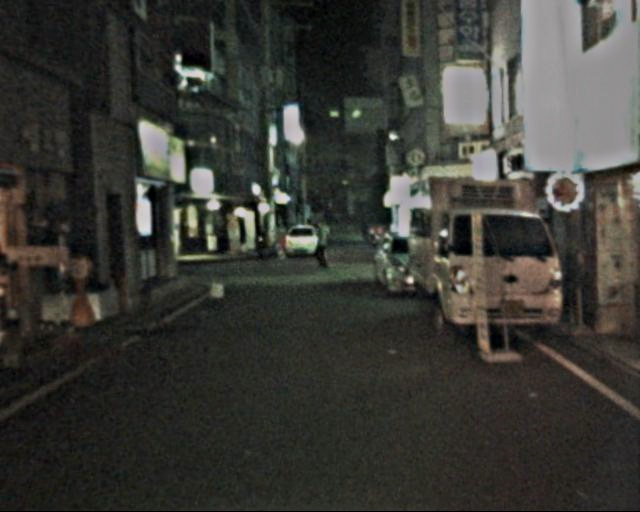person: (309, 219, 334, 274)
